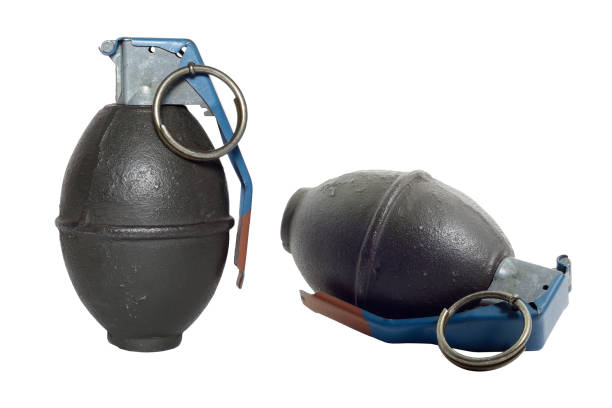e1: (56, 36, 257, 357), (278, 168, 579, 370)
